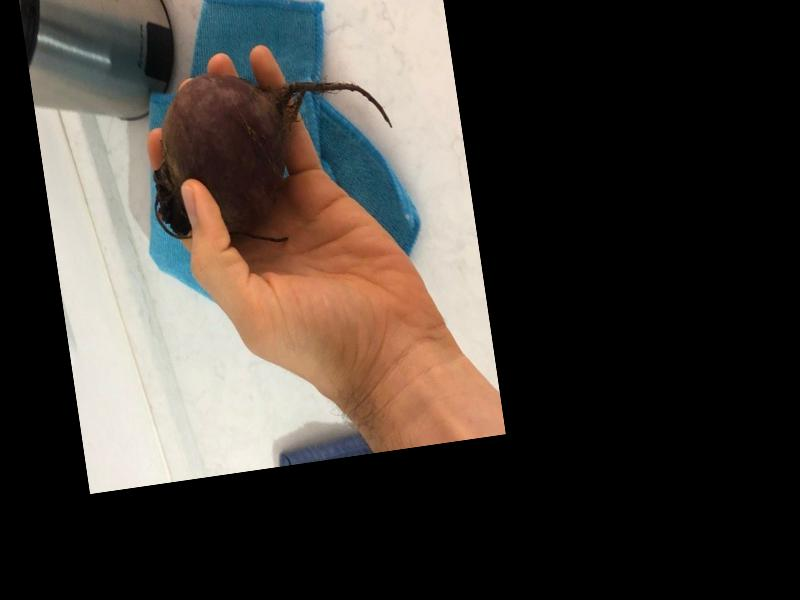Beet: (137, 49, 406, 257)
